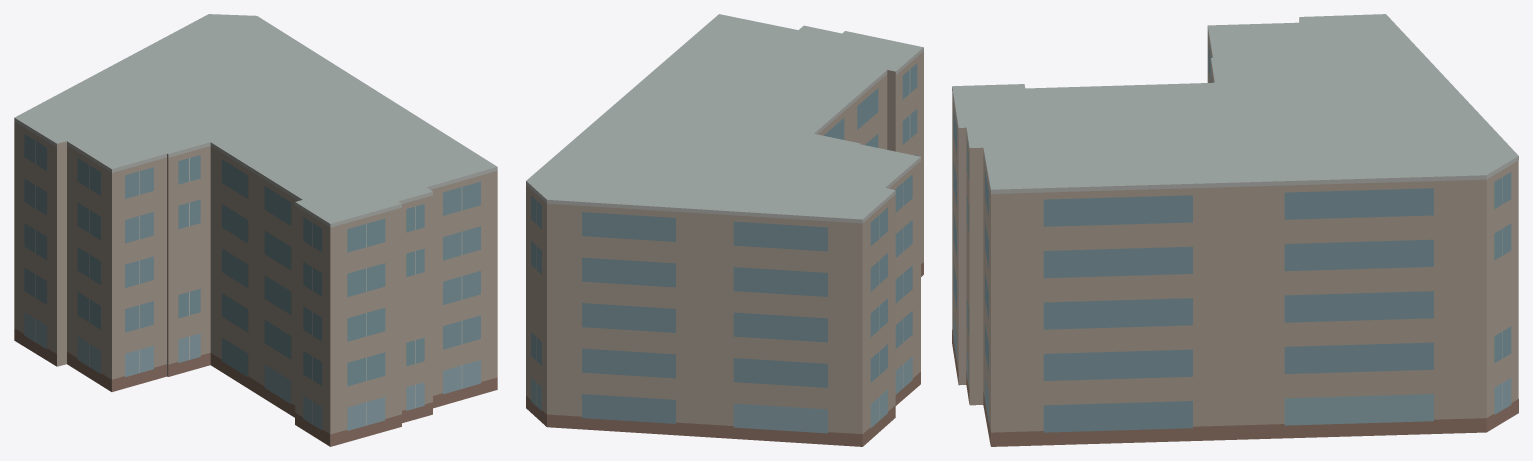
The model's file is survey-upis-32946517.glb.
The picture shows the model from 3 angles, left to right: view 1: azimuth 30°, elevation 25°; view 2: azimuth 150°, elevation 25°; view 3: azimuth 270°, elevation 25°; orthographic projection. The views are drawn at different scales.
Visible parts, largest first — view 1: survey-upis-32946517.tmp; view 2: survey-upis-32946517.tmp; view 3: survey-upis-32946517.tmp.
Boxes of the visible parts, x1,y1,x2,y2 form: survey-upis-32946517.tmp: (14, 14, 497, 446); survey-upis-32946517.tmp: (526, 14, 923, 446); survey-upis-32946517.tmp: (952, 14, 1518, 446).
Size of the model in its own units: 21.11 by 14.4 by 28.76.
